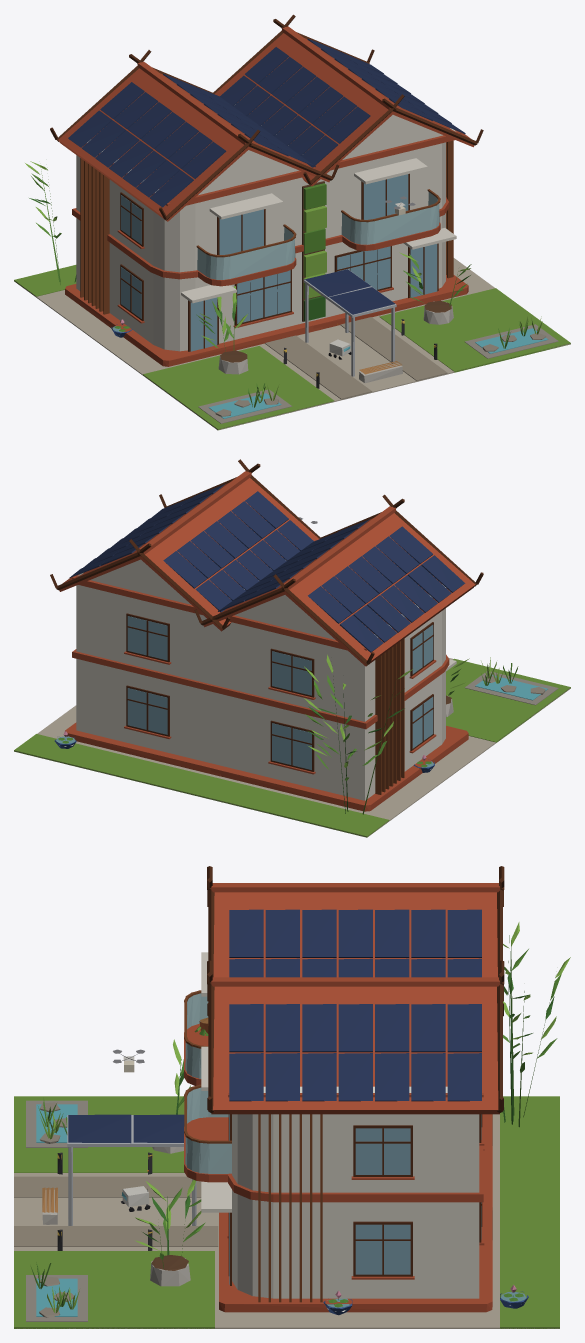
File: home_2.glb
The picture shows the model from 3 angles, top to bottom: view 1: azimuth 30°, elevation 25°; view 2: azimuth 150°, elevation 25°; view 3: azimuth 270°, elevation 25°; orthographic projection. The views are drawn at different scales.
Parts seen in each view (by area): view 1: body; view 2: body; view 3: body.
Part boxes in pixels (x1,y1,x2,y2): body: [14, 14, 570, 430]; body: [14, 459, 570, 837]; body: [14, 866, 570, 1328].
Bounding box in the file's own units: 16.42 × 9.47 × 16.22.
